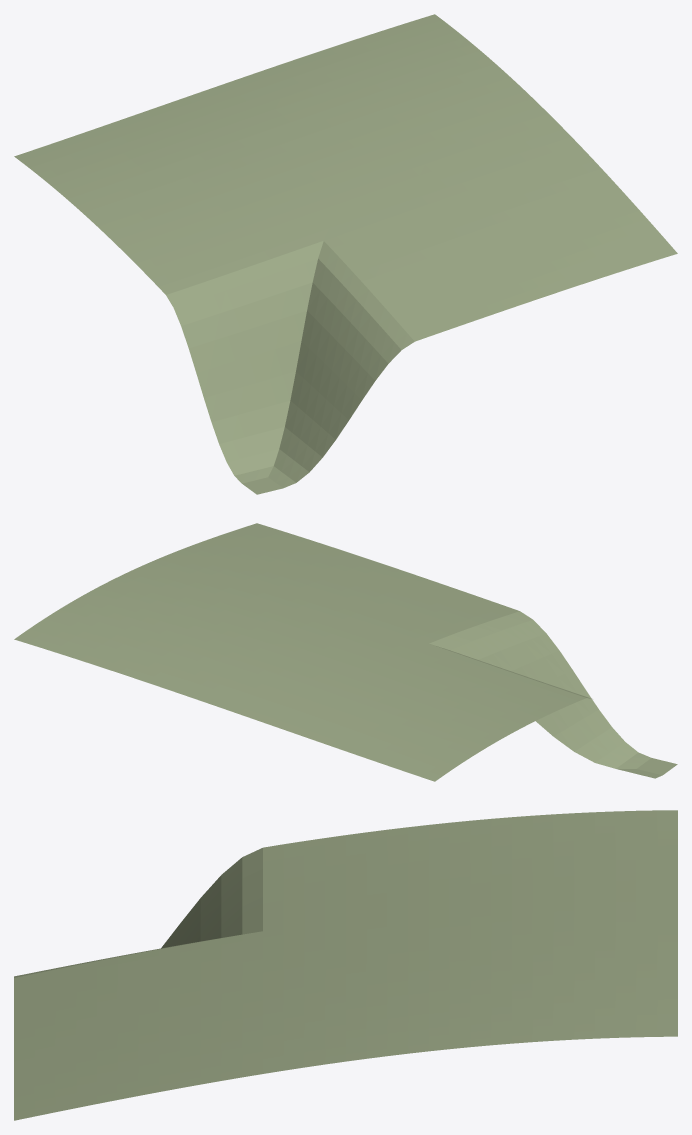
File: valley-14-1.glb
3 renders of one model, top to bottom at view 1: azimuth 30°, elevation 25°; view 2: azimuth 150°, elevation 25°; view 3: azimuth 270°, elevation 25°, orthographic. The views are drawn at different scales.
Visible parts, largest first — view 1: valley-14-1; view 2: valley-14-1; view 3: valley-14-1.
Boxes of the visible parts, x1,y1,x2,y2 form: valley-14-1: [14, 14, 677, 494]; valley-14-1: [14, 523, 677, 781]; valley-14-1: [14, 810, 677, 1120].
Size of the model in its own units: 256 by 116 by 256.
